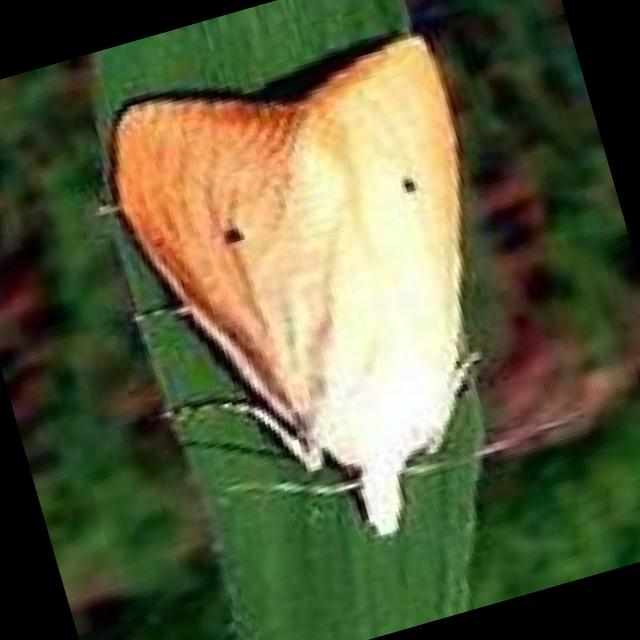stem-borer: (100, 29, 485, 546)
